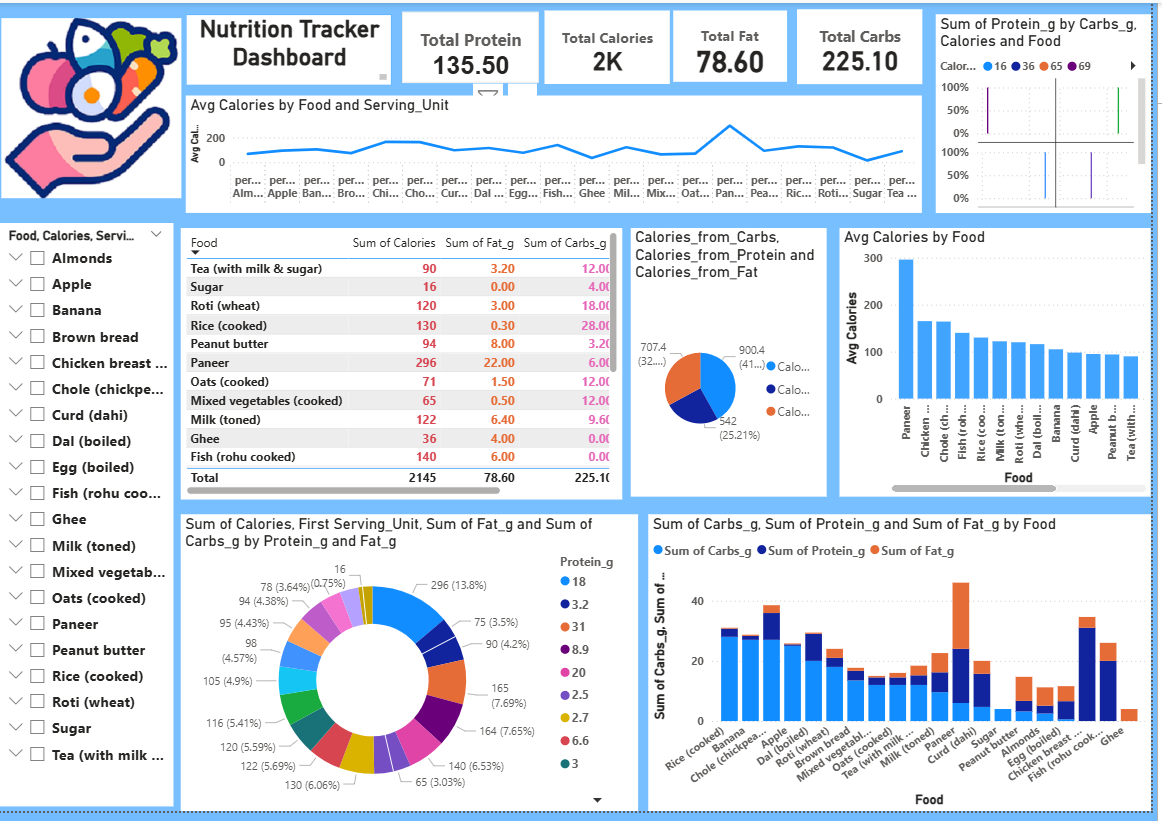

The dashboard page shown, as its layout file describes it:
{"tool":"powerbi","page":{"name":"Page 1","canvas":[1281,898],"ordinal":0},"visuals":[{"type":"cardVisual","fields":{"Data":["nutrition tracker.Total Protein"]},"box":[449.8,9.7,151.3,79.1],"z":1},{"type":"cardVisual","fields":{"Data":["nutrition tracker.Total Carbs"]},"box":[888.6,6.9,138.8,83.3],"z":2},{"type":"cardVisual","fields":{"Data":["nutrition tracker.Total Calories"]},"box":[608.1,8.3,138.8,81.9],"z":3},{"type":"cardVisual","fields":{"Data":["nutrition tracker.Total Fat"]},"box":[751.1,8.3,126.3,79.1],"z":4},{"type":"clusteredColumnChart","fields":{"Category":["nutrition tracker.Food"],"Y":["nutrition tracker.Avg Calories"]},"box":[935.8,249.9,345.7,298.5],"z":5},{"type":"columnChart","fields":{"Category":["nutrition tracker.Food"],"Y":["Sum(nutrition tracker.Carbs_g)","Sum(nutrition tracker.Protein_g)","Sum(nutrition tracker.Fat_g)"]},"box":[723.3,567.8,558.1,330.4],"z":6},{"type":"donutChart","fields":{"Category":["nutrition tracker.Protein_g","nutrition tracker.Food"],"Y":["Sum(nutrition tracker.Calories)"],"Series":["nutrition tracker.Fat_g"]},"box":[204.1,567.8,508.1,330.4],"z":7},{"type":"pieChart","fields":{"Y":["nutrition tracker.Calories_from_Carbs","nutrition tracker.Calories_from_Protein","nutrition tracker.Calories_from_Fat"]},"box":[703.9,249.9,218,298.5],"z":8},{"type":"tableEx","fields":{"Values":["nutrition tracker.Food","Sum(nutrition tracker.Calories)","Sum(nutrition tracker.Fat_g)","Sum(nutrition tracker.Carbs_g)","nutrition tracker.Serving_Unit"]},"box":[204.1,249.9,490.1,301.3],"z":9},{"type":"slicer","fields":{"Values":["nutrition tracker.Food","nutrition tracker.Calories","nutrition tracker.Serving_Unit"]},"box":[0,244.4,195.8,648.4],"z":10},{"type":"textbox","title":"Nutrition Tracker Dashboard","box":[209.6,12.5,229.1,79.1],"z":11},{"type":"image","box":[0,0,209.6,233.2],"z":12},{"type":"hundredPercentStackedColumnChart","fields":{"Category":["nutrition tracker.Carbs_g"],"Y":["Sum(nutrition tracker.Protein_g)"],"Series":["nutrition tracker.Calories"],"Rows":["nutrition tracker.Food"]},"box":[1042.7,12.5,238.8,220.8],"z":13},{"type":"lineChart","fields":{"Category":["nutrition tracker.Food","nutrition tracker.Serving_Unit"],"Y":["nutrition tracker.Avg Calories"]},"box":[209.6,102.7,817.8,130.5],"z":14}]}

Visuals, with their boxes in screenshot pixels (x1, y1, x2, y2), scaled from the page's 1281x898 canvas onto the 1162x821 screenshot:
cardVisual - nutrition tracker.Total Protein: 408,9,545,81
cardVisual - nutrition tracker.Total Carbs: 806,6,932,82
cardVisual - nutrition tracker.Total Calories: 552,8,678,82
cardVisual - nutrition tracker.Total Fat: 681,8,796,80
clusteredColumnChart - nutrition tracker.Food x nutrition tracker.Avg Calories: 849,228,1161,501
columnChart - nutrition tracker.Food x Sum(nutrition tracker.Carbs_g): 656,519,1161,820
donutChart - nutrition tracker.Protein_g x nutrition tracker.Food: 185,519,646,820
pieChart - nutrition tracker.Calories_from_Carbs x nutrition tracker.Calories_from_Protein: 639,228,836,501
tableEx - nutrition tracker.Food x Sum(nutrition tracker.Calories): 185,228,630,504
slicer - nutrition tracker.Food x nutrition tracker.Calories: 0,223,178,816
"Nutrition Tracker Dashboard" textbox: 190,11,398,84
image: 0,0,190,213
hundredPercentStackedColumnChart - nutrition tracker.Carbs_g x Sum(nutrition tracker.Protein_g): 946,11,1161,213
lineChart - nutrition tracker.Food x nutrition tracker.Serving_Unit: 190,94,932,213
